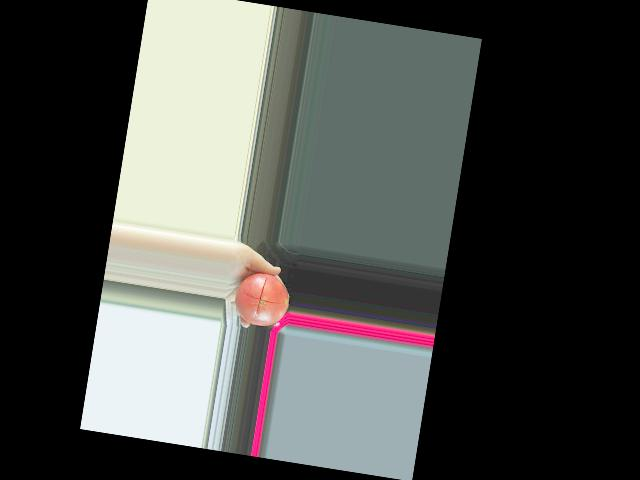tomato: (231, 269, 292, 330)
